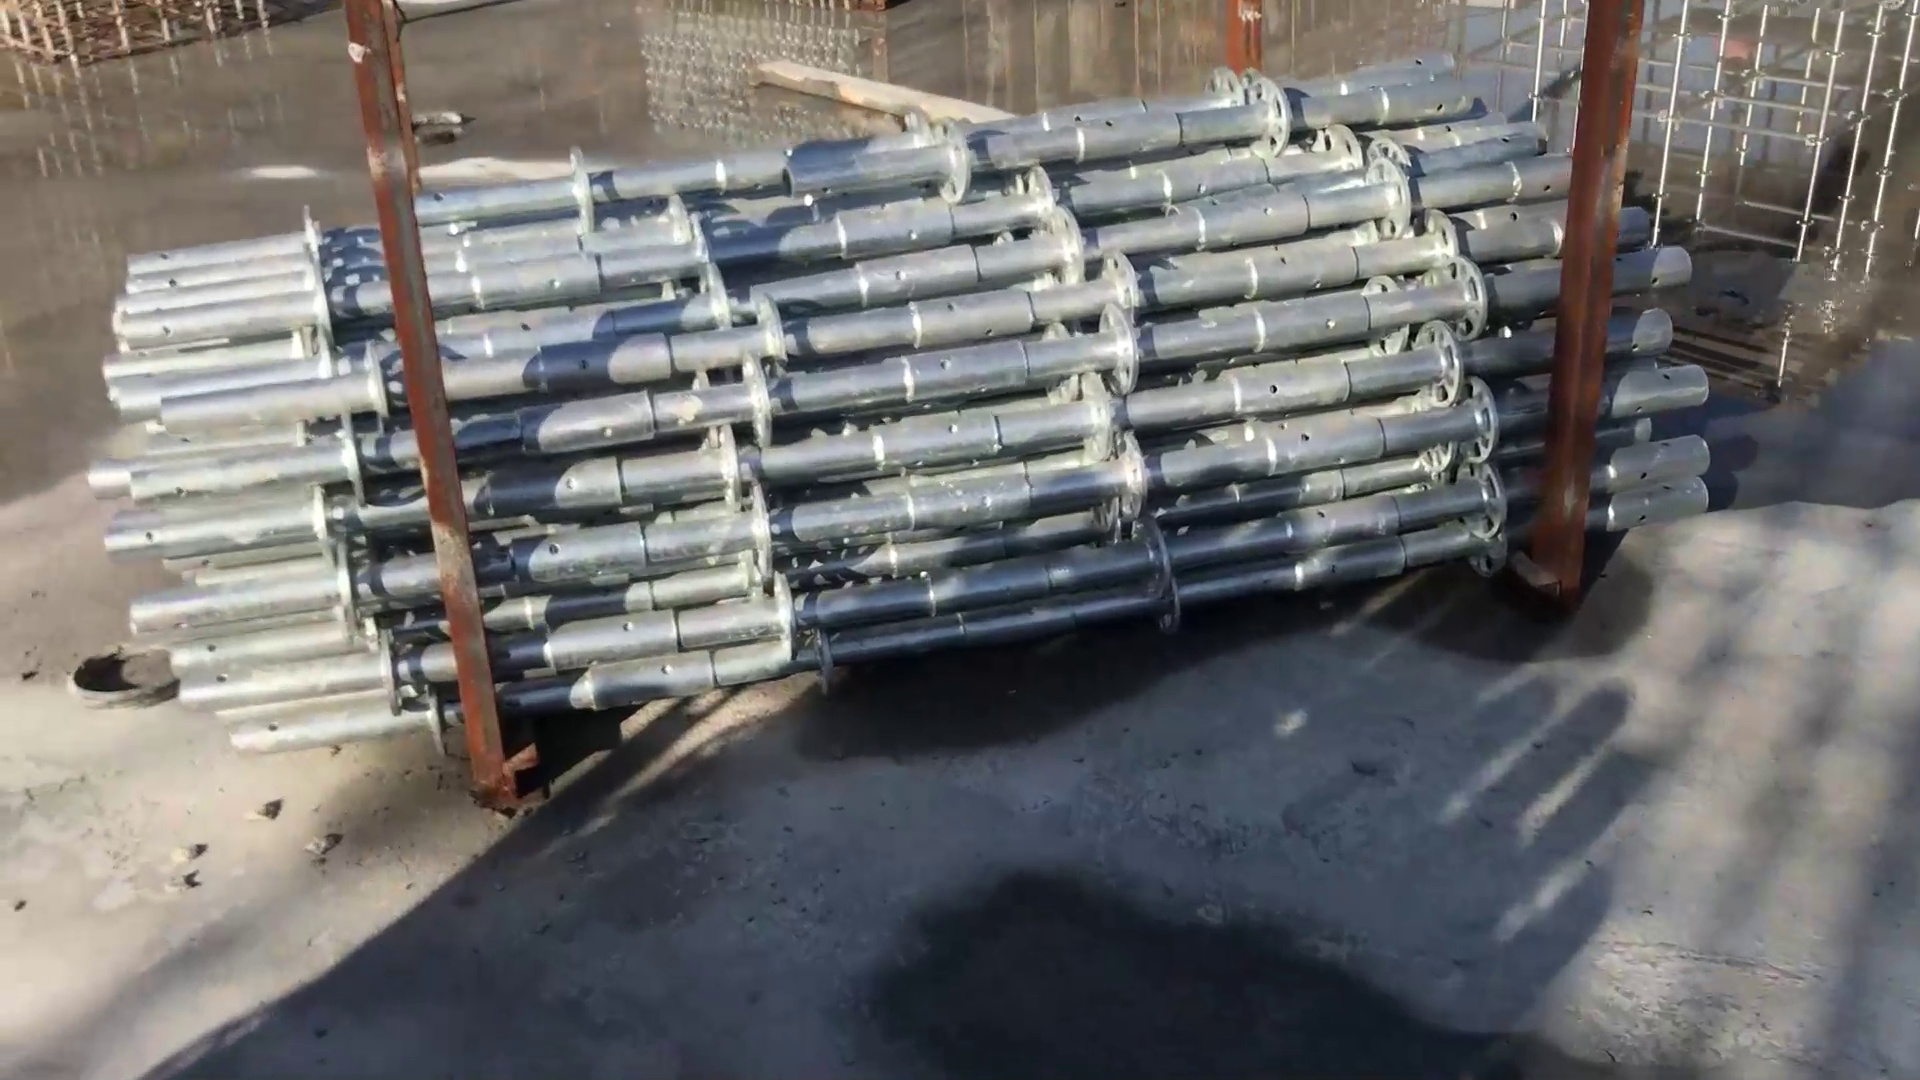scaffold: (96, 61, 1712, 753)
